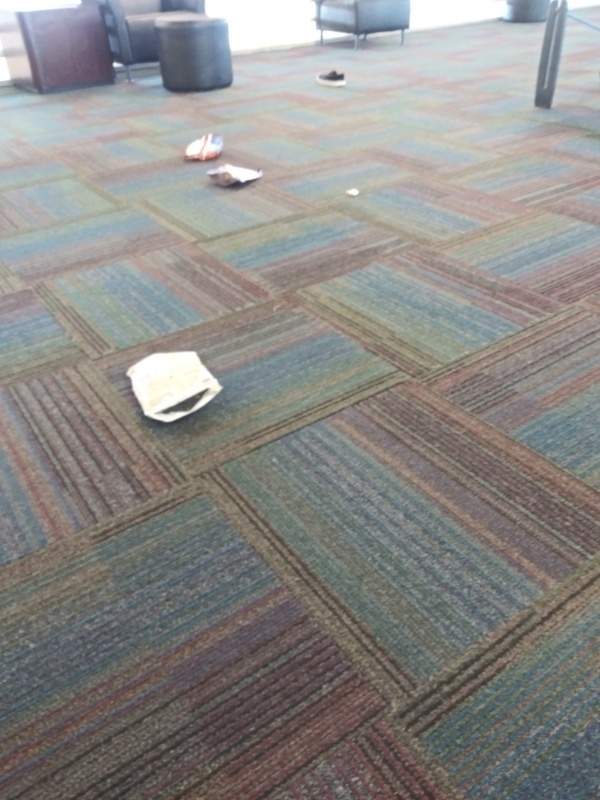bag: (120, 347, 228, 422), (200, 163, 264, 191), (177, 129, 227, 164)
